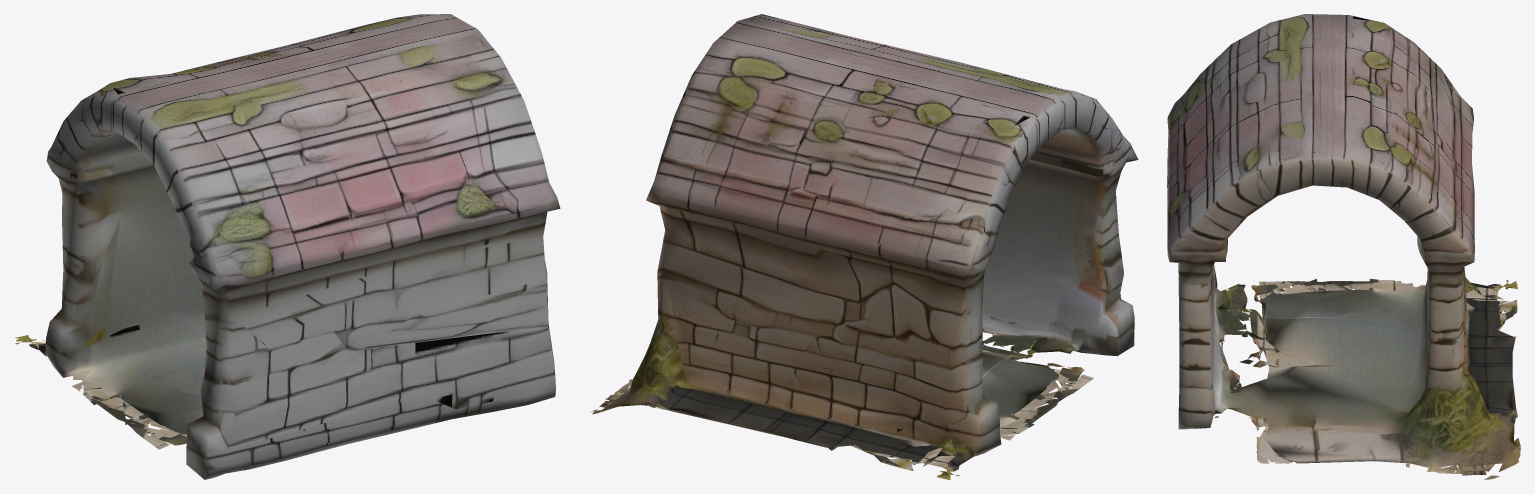
Rendered from cellarBestEx.fbx.
3 renders of one model, left to right at view 1: azimuth 30°, elevation 25°; view 2: azimuth 150°, elevation 25°; view 3: azimuth 270°, elevation 25°, orthographic. The views are drawn at different scales.
Parts seen in each view (by area): view 1: tripo_node_cc5d0b2e; view 2: tripo_node_cc5d0b2e; view 3: tripo_node_cc5d0b2e.
Boxes of the visible parts, x1=… form: tripo_node_cc5d0b2e: x1=15, y1=14, x2=560, y2=479; tripo_node_cc5d0b2e: x1=591, y1=14, x2=1138, y2=479; tripo_node_cc5d0b2e: x1=1167, y1=14, x2=1520, y2=479.
Size of the model in its own units: 94.33 by 79.54 by 83.69.
1 material, 1 textured.
